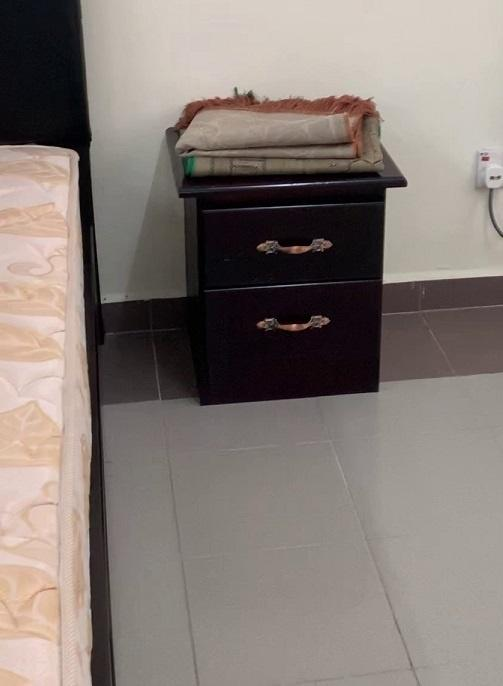cabinet_door: (210, 283, 382, 389), (202, 204, 381, 283)
handle: (255, 304, 330, 346), (257, 231, 335, 264)
